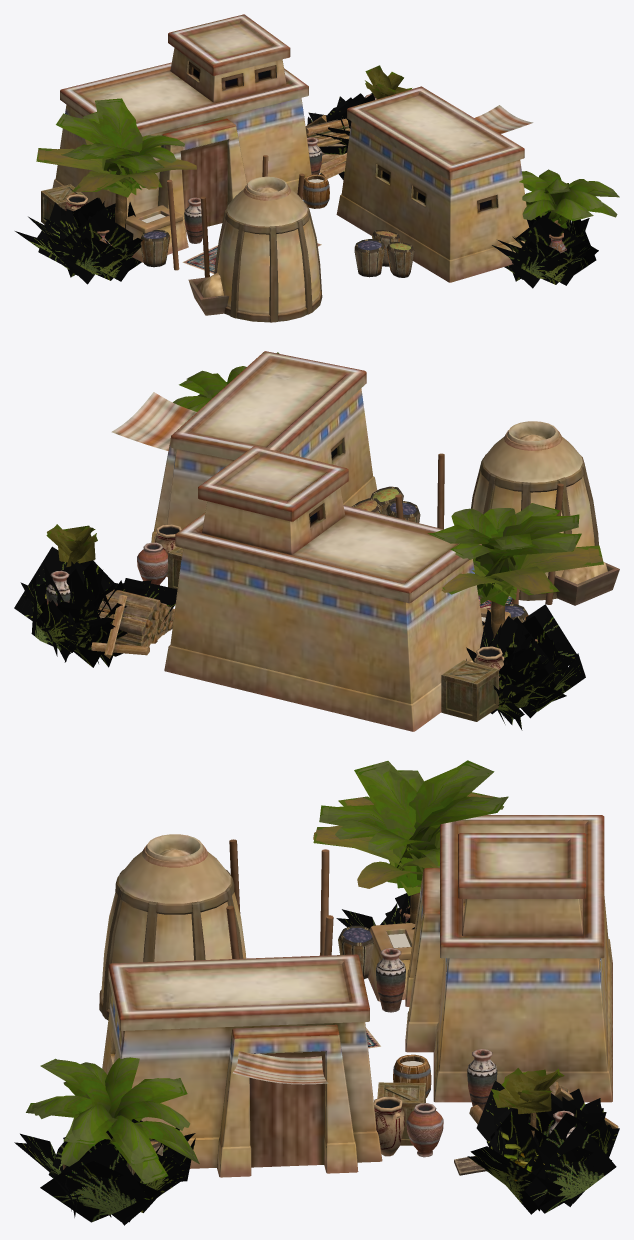
File: 122-villagecenter.glb
The picture shows the model from 3 angles, top to bottom: view 1: azimuth 30°, elevation 25°; view 2: azimuth 150°, elevation 25°; view 3: azimuth 270°, elevation 25°; orthographic projection. The views are drawn at different scales.
Size of the model in its own units: 11.77 by 4.27 by 9.46.
Materials: 20 (18 with a texture image).
